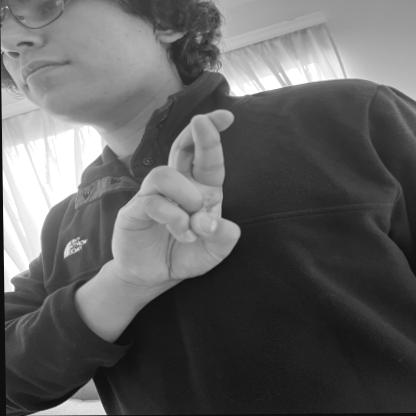R: (106, 105, 250, 284)
